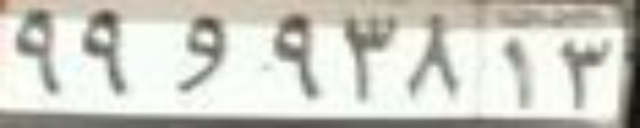1: (499, 38, 531, 110)
3: (340, 12, 395, 99), (553, 36, 612, 110)
8: (410, 14, 464, 99)
9: (270, 13, 325, 99), (12, 9, 61, 97), (77, 9, 126, 93)
vav: (170, 16, 226, 93)
